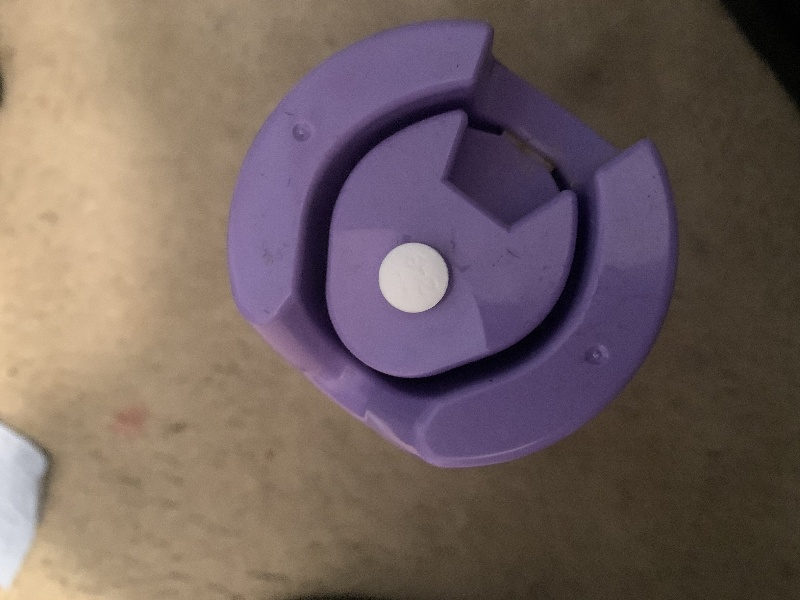Aspirin: (373, 235, 453, 316)
